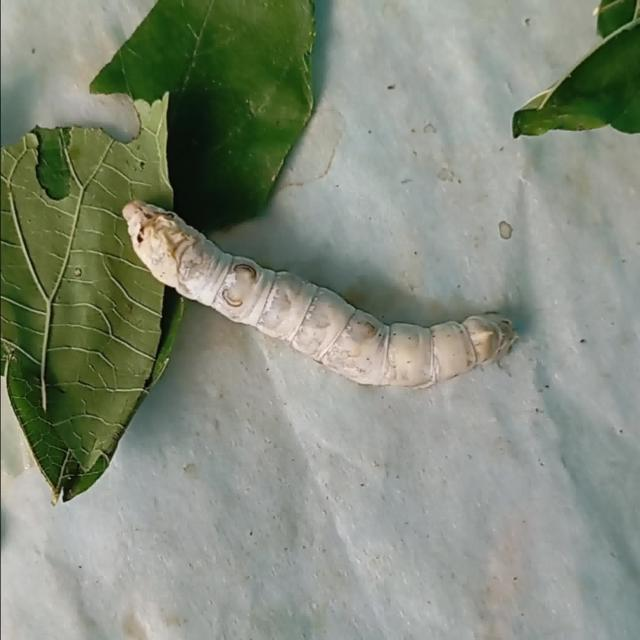Grasserie: (114, 176, 525, 412)
